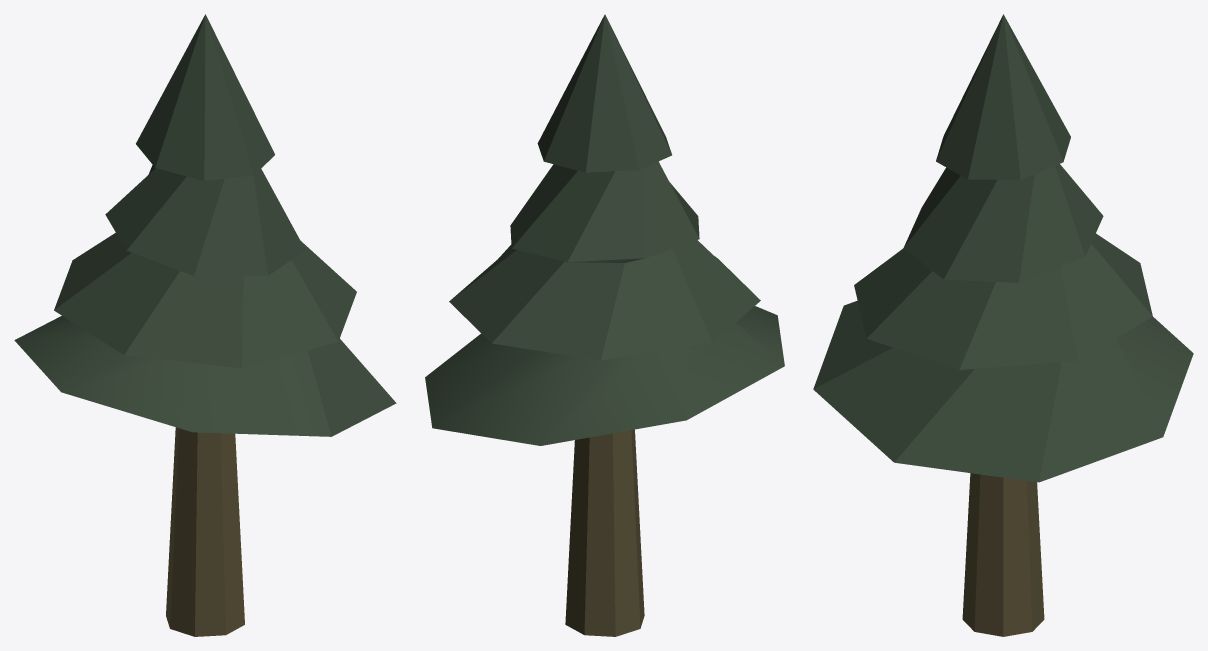
File: Arbol con hojas 4.fbx
The picture shows the model from 3 angles, left to right: view 1: azimuth 30°, elevation 25°; view 2: azimuth 150°, elevation 25°; view 3: azimuth 270°, elevation 25°; orthographic projection.
Visible parts, largest first — view 1: Arbol_con_hojas_4; view 2: Arbol_con_hojas_4; view 3: Arbol_con_hojas_4.
Boxes of the visible parts, left/top/right/bottom form: Arbol_con_hojas_4: left=14, top=14, right=396, bottom=636; Arbol_con_hojas_4: left=425, top=14, right=784, bottom=636; Arbol_con_hojas_4: left=813, top=14, right=1193, bottom=636.
Size of the model in its own units: 9.04 by 16.15 by 9.2.
